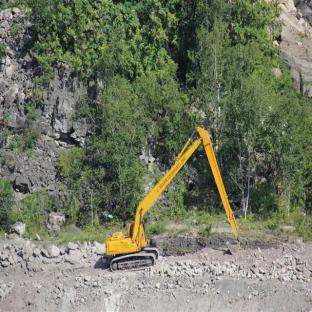ExcavationMachinery: (92, 104, 264, 292)
